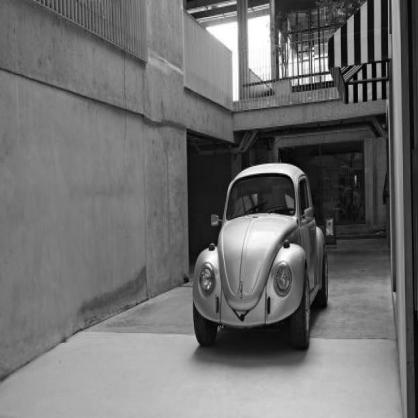car: (197, 161, 331, 354)
